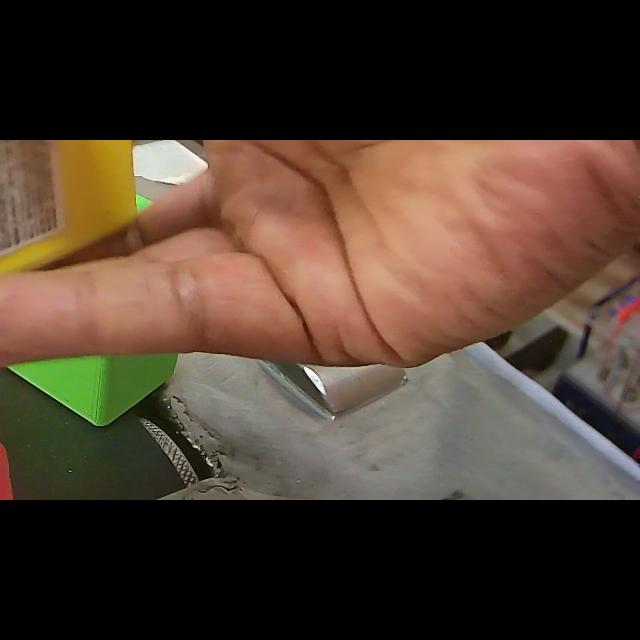greenBox: (4, 348, 204, 432)
redBox: (0, 432, 16, 500)
yellowBox: (0, 140, 148, 342)
